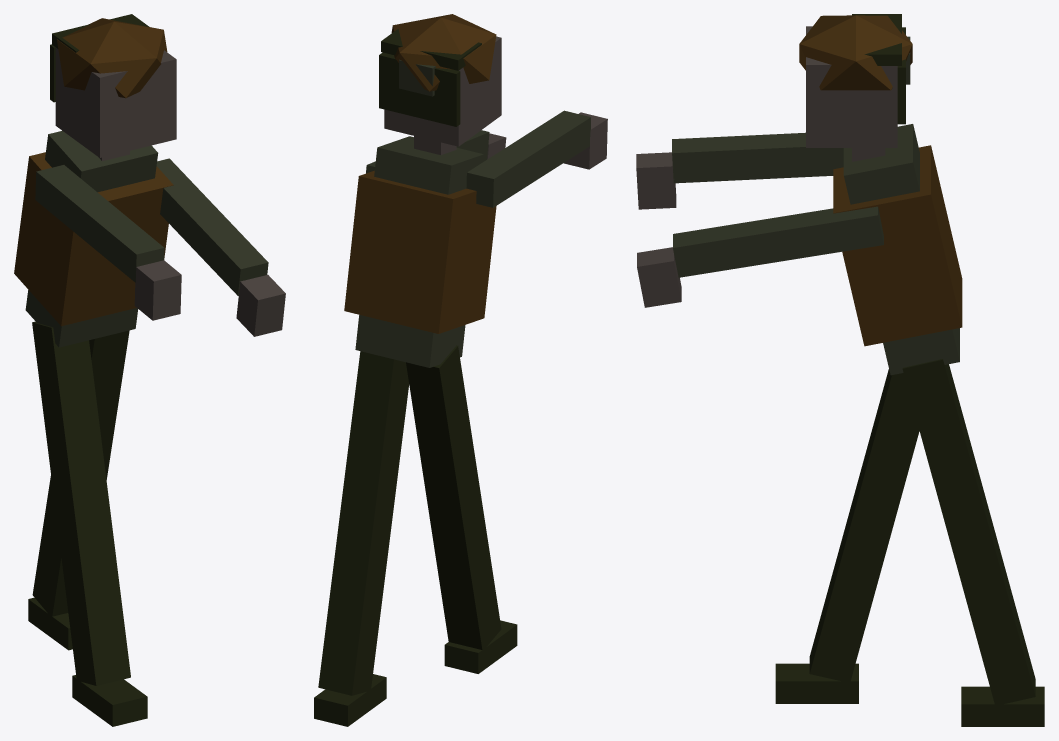
Rendered from SM_ZombiFino_v10_Casco_LOD0.fbx.
3 renders of one model, left to right at view 1: azimuth 30°, elevation 25°; view 2: azimuth 150°, elevation 25°; view 3: azimuth 270°, elevation 25°, orthographic. The views are drawn at different scales.
Visible parts, largest first — view 1: SM_zombi_fino_v10_LOD0; view 2: SM_zombi_fino_v10_LOD0; view 3: SM_zombi_fino_v10_LOD0.
Part boxes in pixels (x1=…): SM_zombi_fino_v10_LOD0: x1=14, y1=14, x2=285, y2=726; SM_zombi_fino_v10_LOD0: x1=314, y1=14, x2=607, y2=726; SM_zombi_fino_v10_LOD0: x1=636, y1=14, x2=1044, y2=726.
Bounding box in the file's own units: 0.38 × 1.83 × 0.9796.
